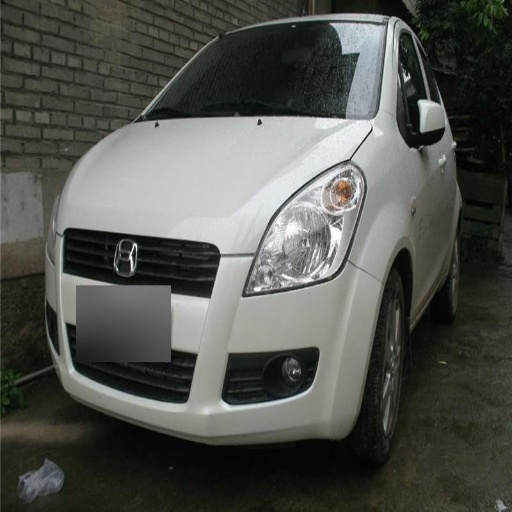front_bumper: (46, 229, 383, 444)
front_glass: (141, 22, 384, 120)
front_left_door: (387, 30, 448, 300)
front_left_light: (245, 163, 366, 298)
